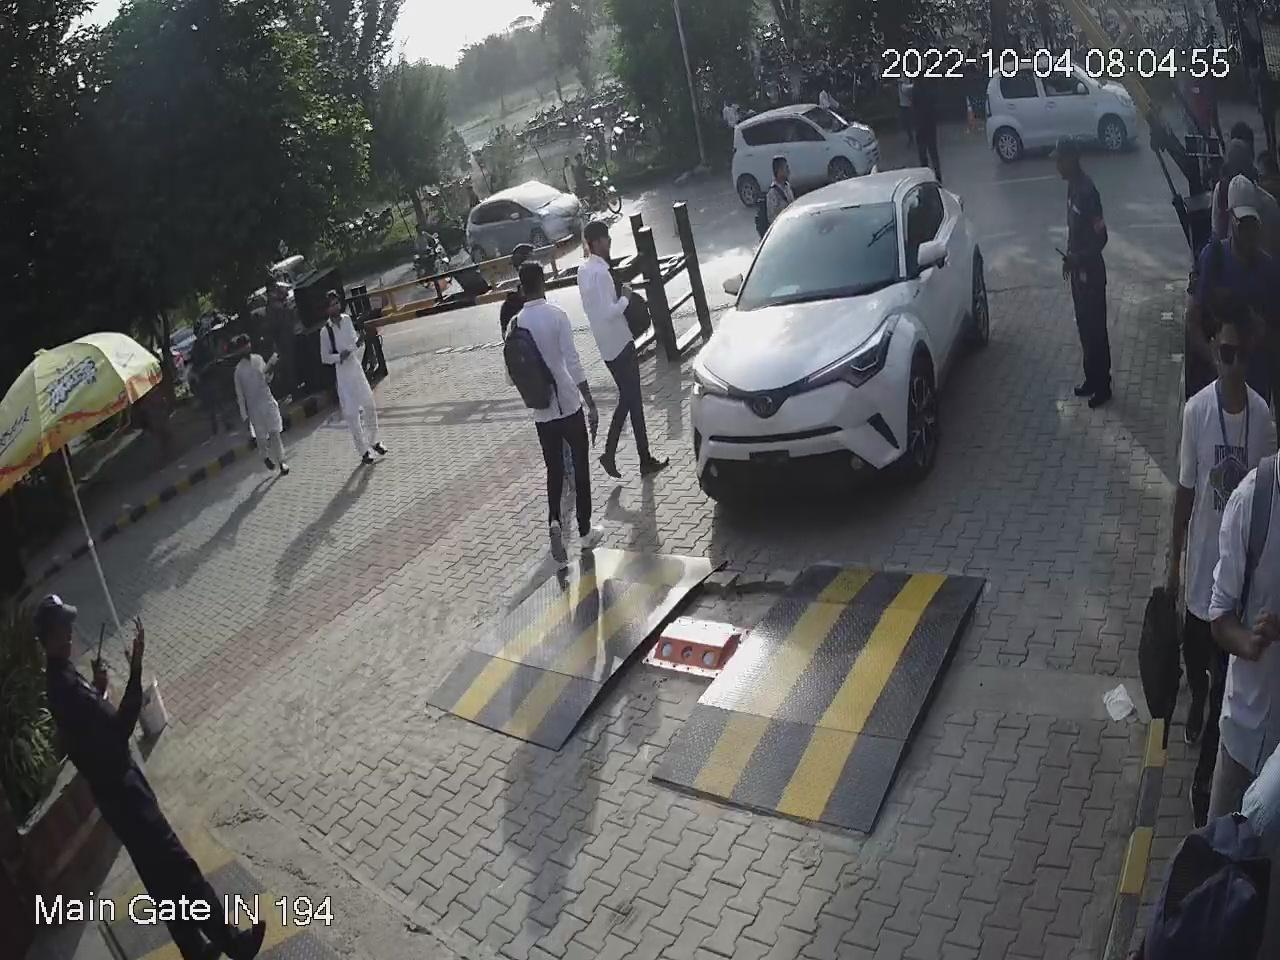windshield: (738, 190, 895, 310)
